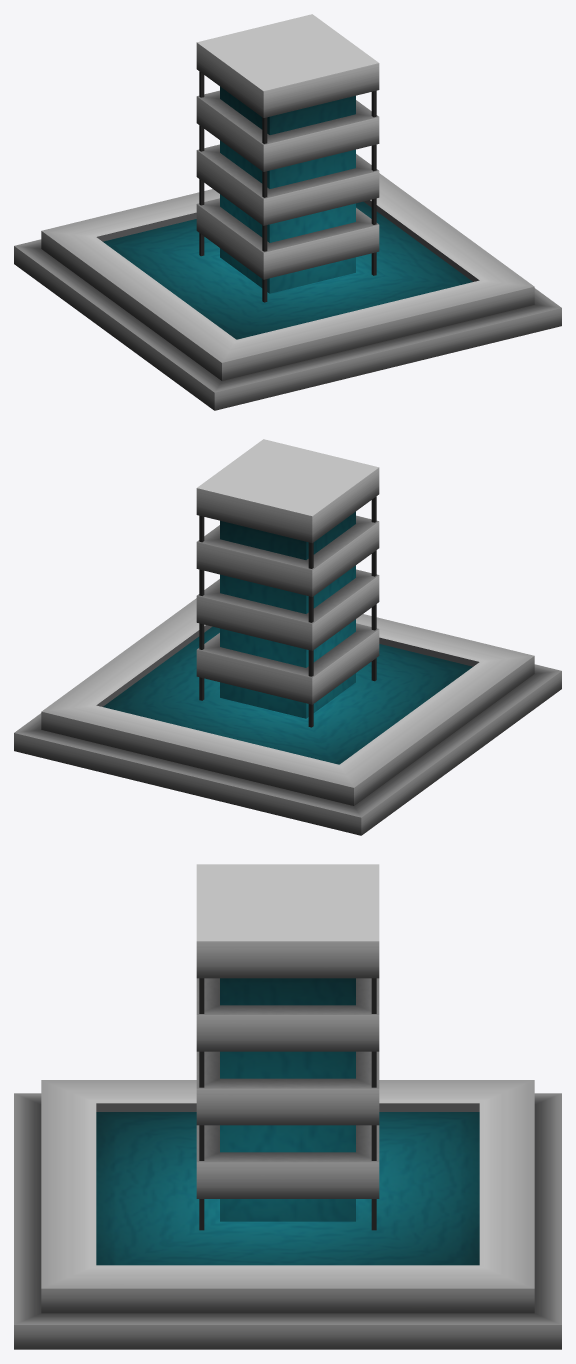
Rendered from Fontain_001.fbx.
3 renders of one model, top to bottom at view 1: azimuth 30°, elevation 25°; view 2: azimuth 150°, elevation 25°; view 3: azimuth 270°, elevation 25°, orthographic. The views are drawn at different scales.
Visible parts, largest first — view 1: Fontain_001; view 2: Fontain_001; view 3: Fontain_001.
Part boxes in pixels (x1,y1,x2,y2): Fontain_001: (14,14,561,410); Fontain_001: (14,439,561,835); Fontain_001: (14,864,561,1349).
Bounding box in the file's own units: 600 × 400 × 600.
